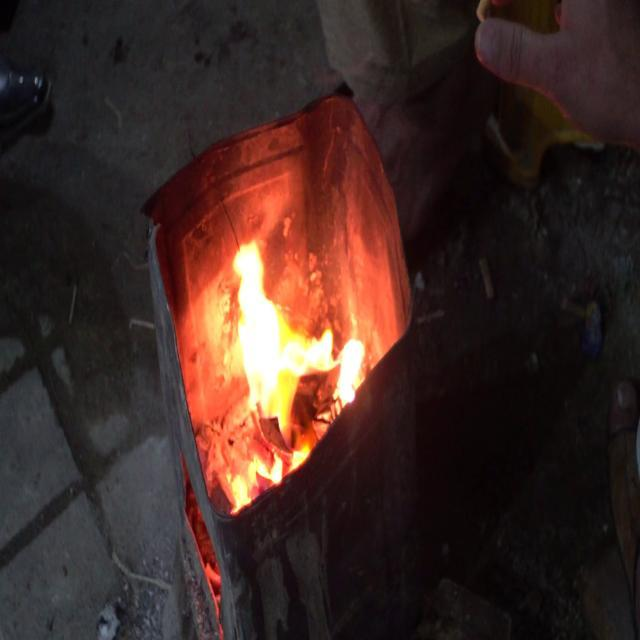Fire: (204, 217, 374, 437)
